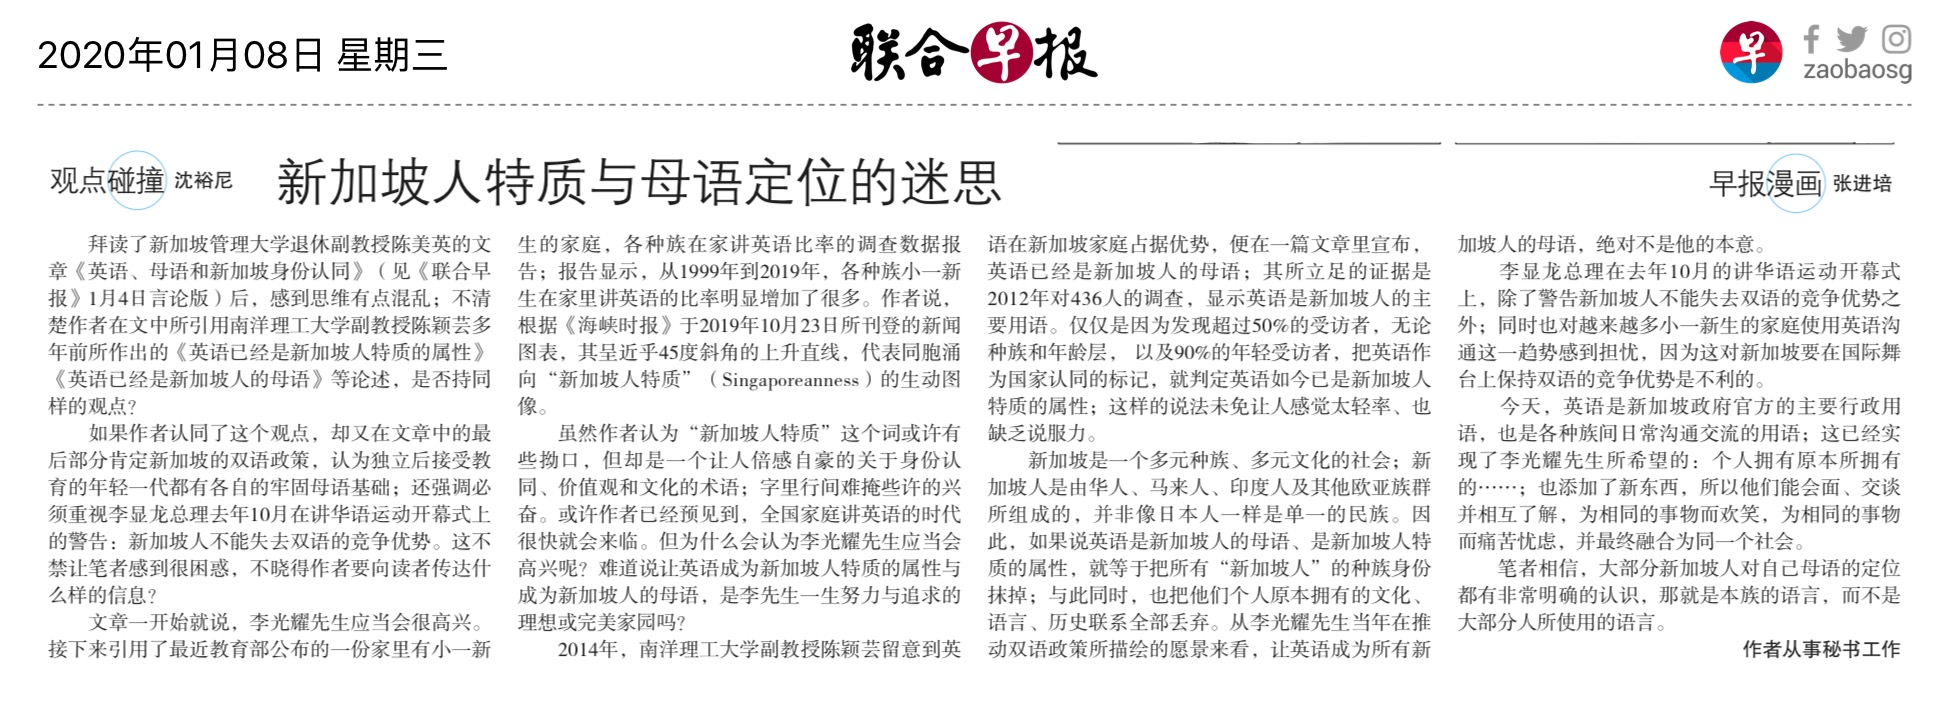heading: (268, 147, 1008, 216)
